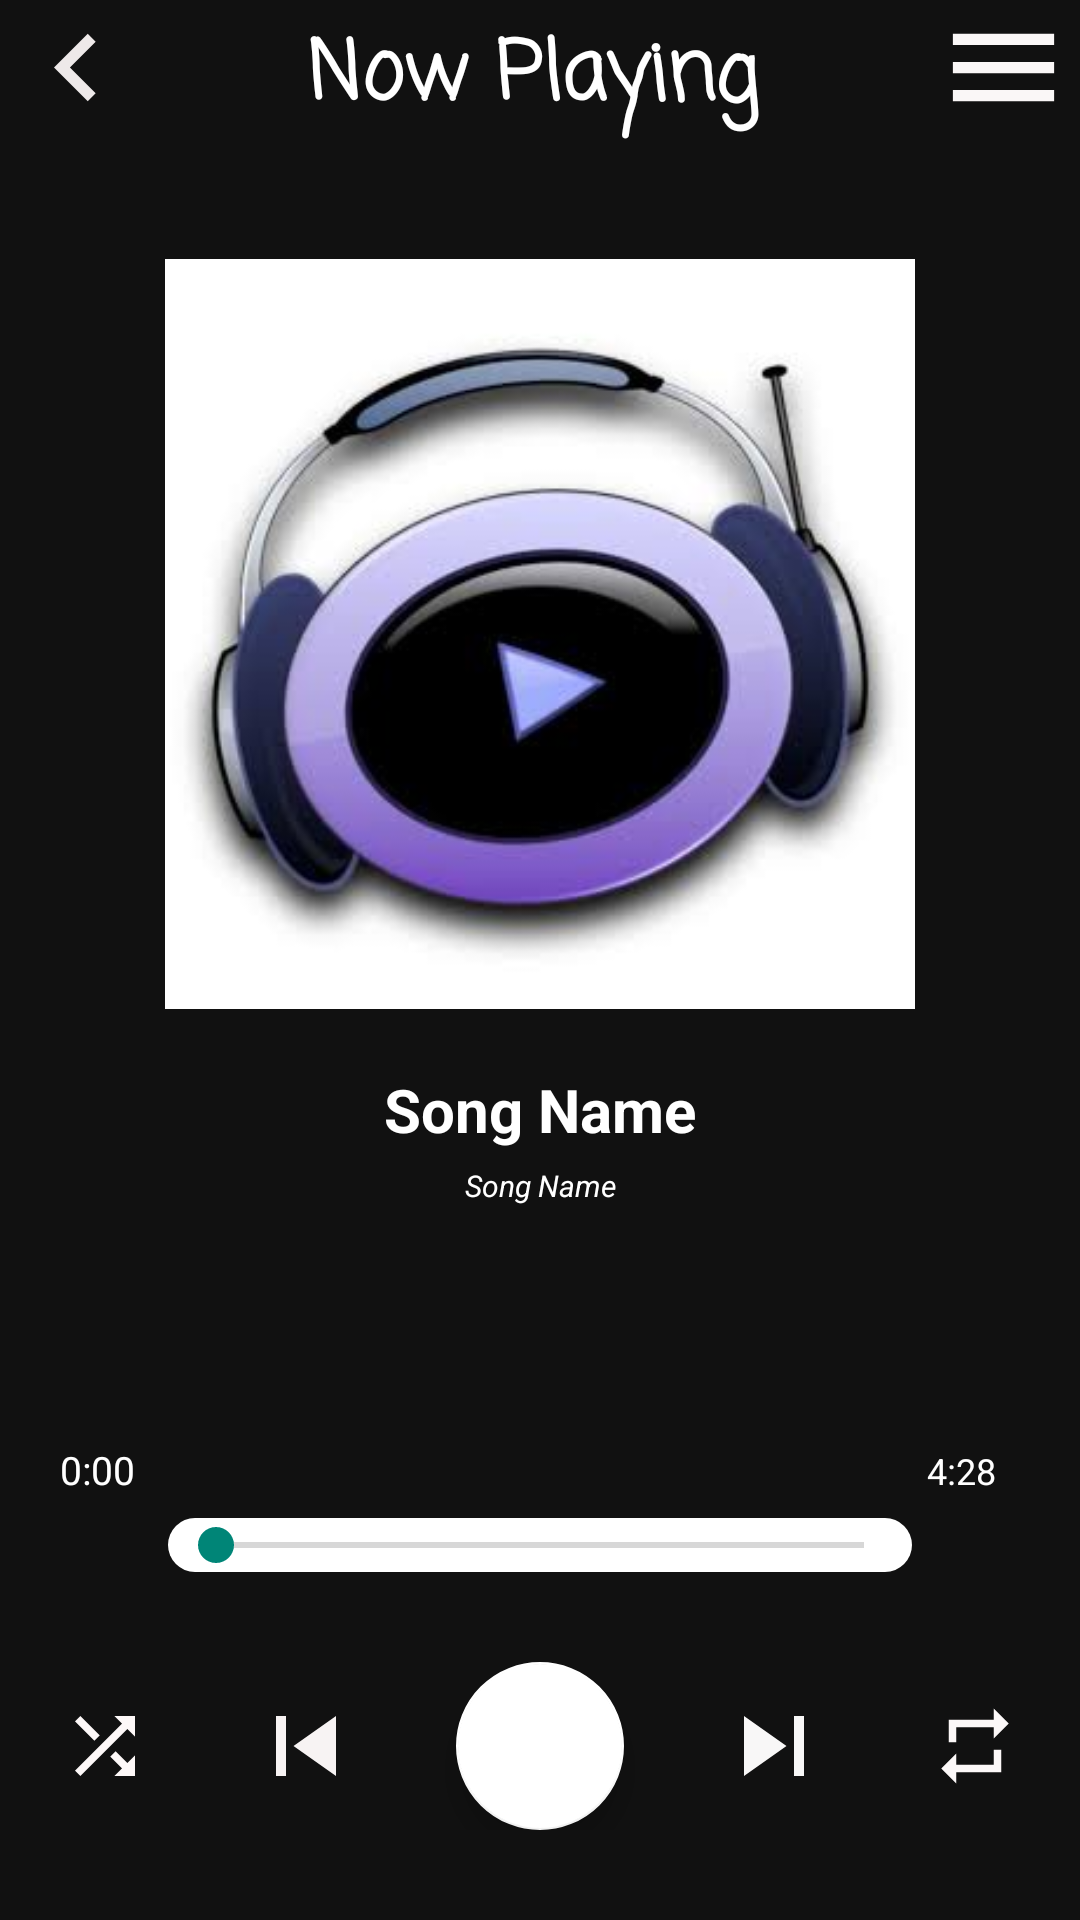

Named icons in this screenshot (1080 × 1920) and their bounding boxes, bbox(x1, y1, x2, y2):
chevron left: bbox(54, 34, 96, 101)
menu: bbox(952, 33, 1055, 102)
repeat on: bbox(941, 1709, 1009, 1784)
shuffle on: bbox(75, 1716, 135, 1776)
skip next: bbox(744, 1716, 804, 1776)
skip previous: bbox(276, 1716, 336, 1776)
